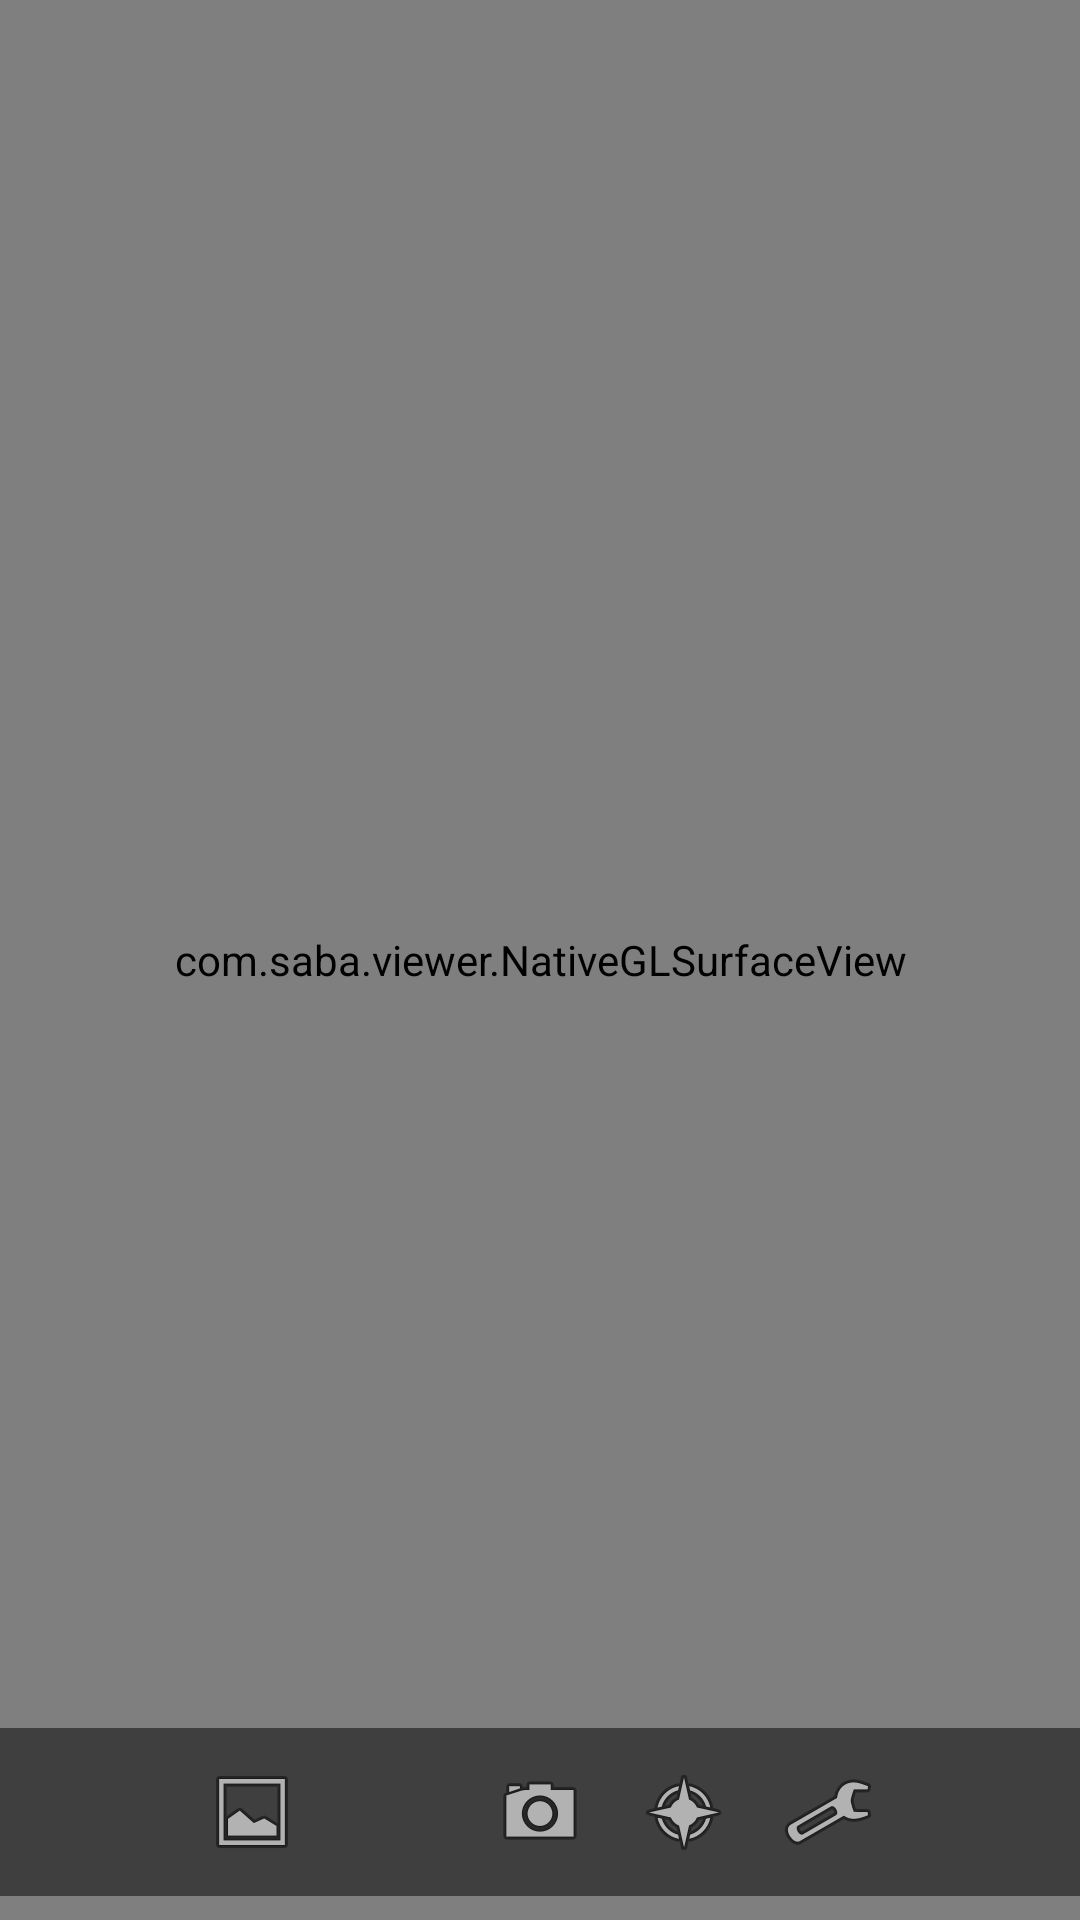

Icon click points for this 1080*1920 phone screenshot, format [x,y]:
Settings: [828,1812]
